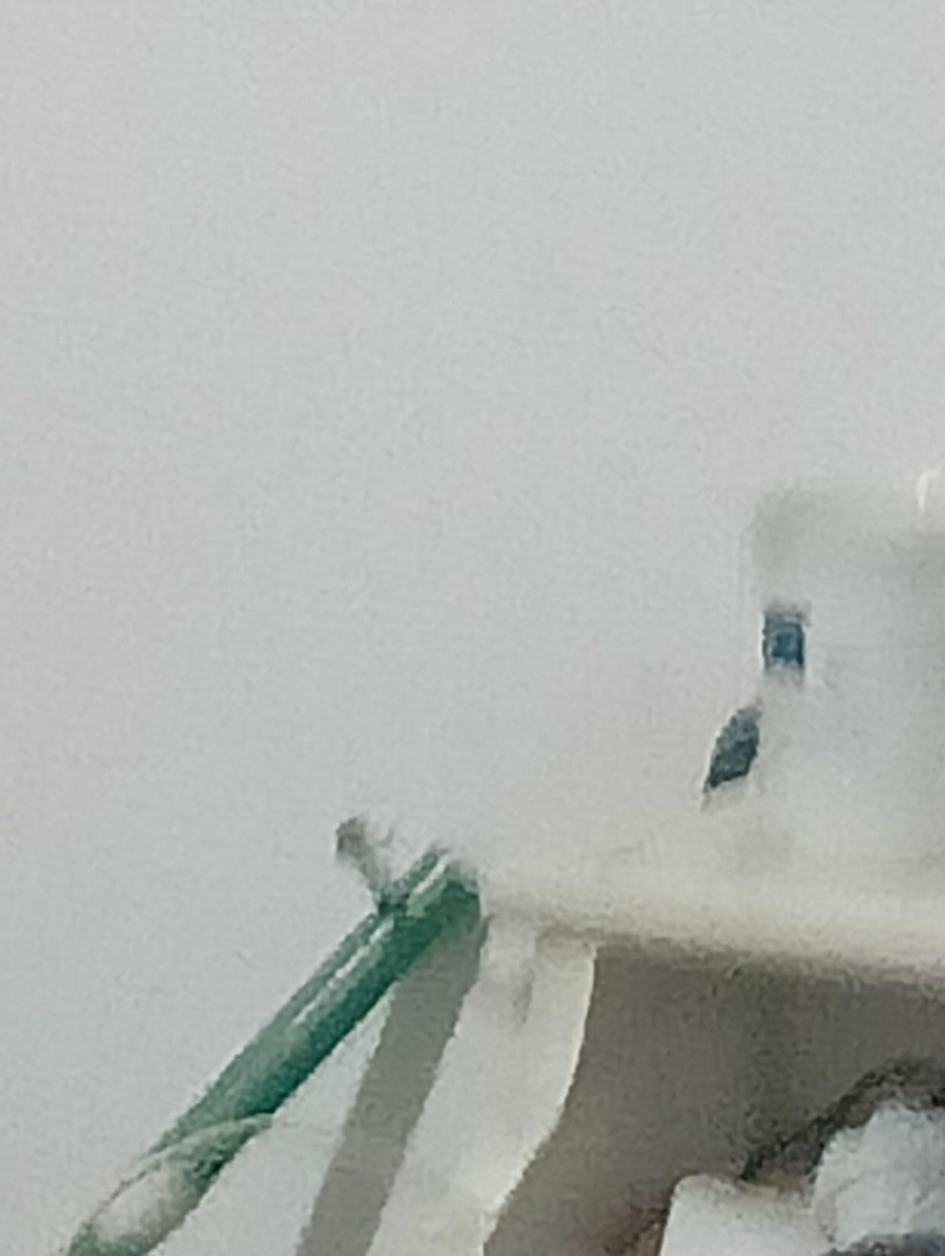cup: (752, 491, 944, 874)
